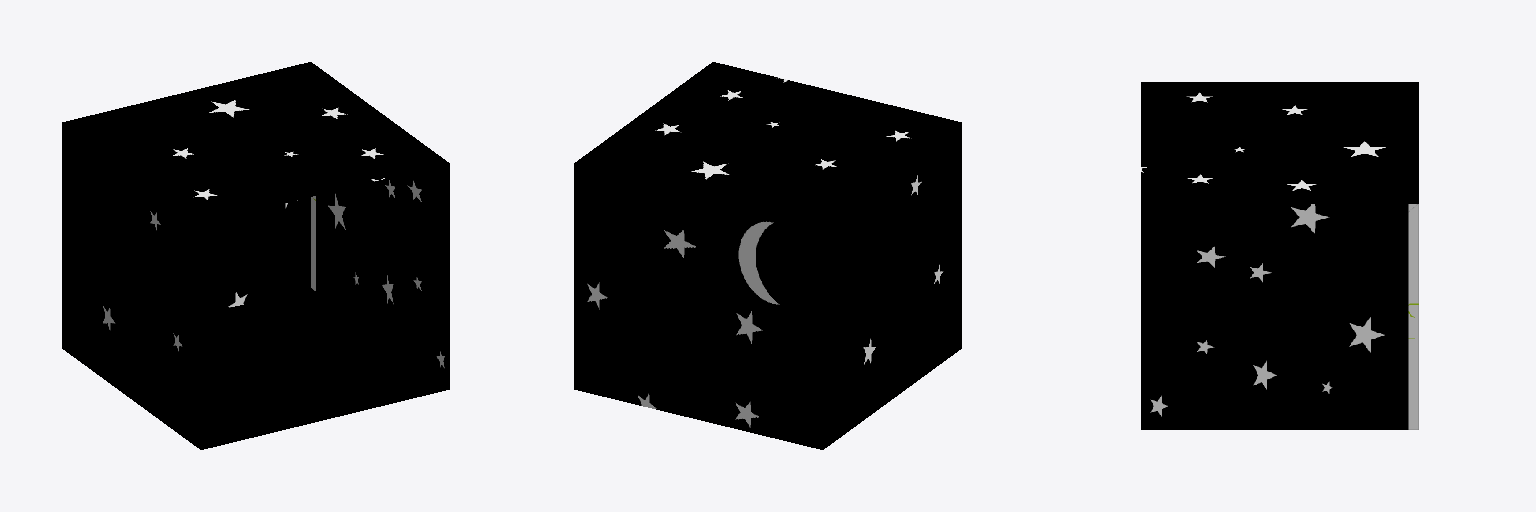
3 renders of one model, left to right at view 1: azimuth 30°, elevation 25°; view 2: azimuth 150°, elevation 25°; view 3: azimuth 270°, elevation 25°, orthographic.
Parts seen in each view (by area): view 1: pasted__polySurface73 pasted__polySurface41 group9; view 2: pasted__polySurface73 pasted__polySurface41 group9; view 3: pasted__polySurface73 pasted__polySurface41 group9.
Boxes of the visible parts, <box> form: pasted__polySurface73 pasted__polySurface41 group9: <box>62,62,449,449</box>; pasted__polySurface73 pasted__polySurface41 group9: <box>574,62,961,449</box>; pasted__polySurface73 pasted__polySurface41 group9: <box>1141,82,1418,429</box>.
Bounding box in the file's own units: 6.59 × 5.74 × 6.37.
1 materials, 1 textured.